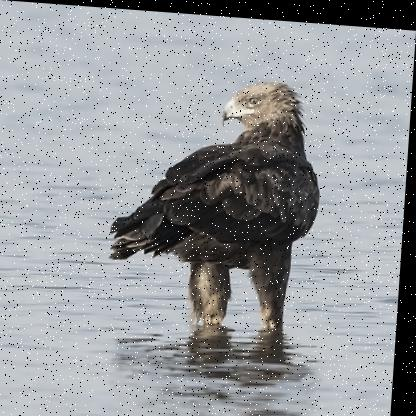Burung: (107, 70, 327, 340)
